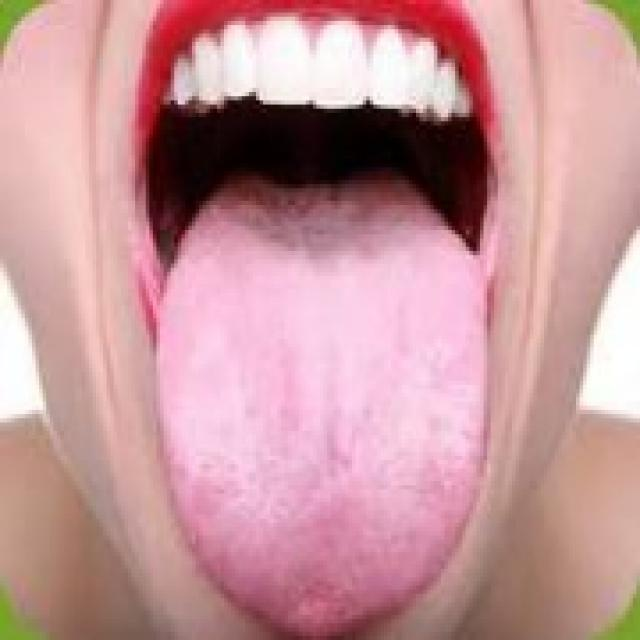baitaishe: (157, 169, 489, 640)
